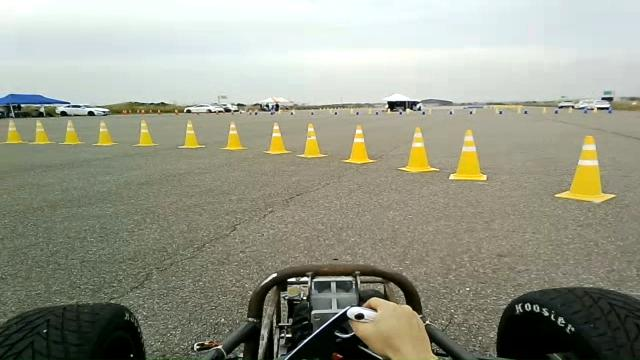yellow cone: (553, 135, 616, 203), (448, 129, 487, 181), (397, 126, 439, 173), (340, 124, 377, 164), (296, 122, 328, 158), (262, 122, 292, 154), (218, 121, 248, 150), (177, 120, 205, 148), (132, 119, 158, 146), (92, 119, 118, 146), (59, 119, 85, 145), (29, 119, 55, 144), (0, 118, 24, 143)
